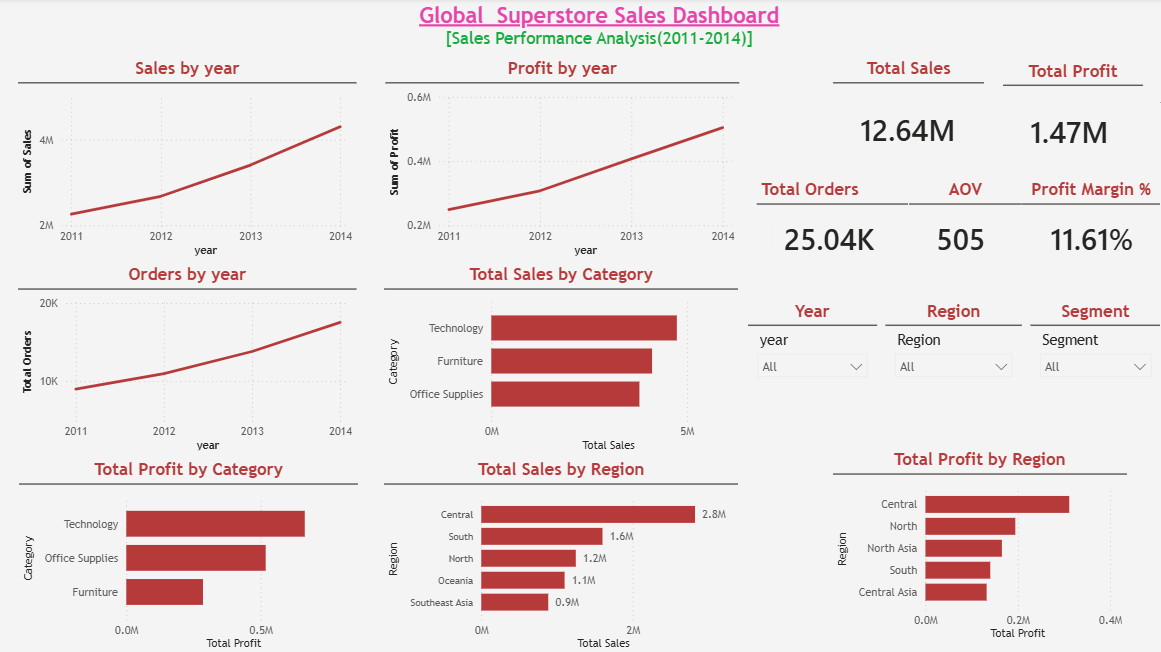

The page's visual inventory and layout, read from the dashboard file:
{"tool":"powerbi","page":{"name":"Executive Overview","canvas":[1280,720],"ordinal":0},"visuals":[{"type":"cardVisual","title":"Total Profit","fields":{"Data":["Global_Superstore2.Total Profit"]},"box":[1107.8,68.6,153.6,123.4],"z":0},{"type":"cardVisual","title":"Total Orders","fields":{"Data":["Global_Superstore2.Total Orders"]},"box":[837.7,198.8,165.9,97.3],"z":1000},{"type":"cardVisual","title":"AOV","fields":{"Data":["Global_Superstore2.AOV"]},"box":[1005,198.8,123.4,97.3],"z":2000},{"type":"cardVisual","title":"Total Sales","fields":{"Data":["Sum(Global_Superstore2.Sales)"]},"box":[921.3,65.8,165.9,124.8],"z":3000},{"type":"lineChart","title":"Sales by year","fields":{"Y":["Sum(Global_Superstore2.Sales)"],"Category":["Global_Superstore2.year"]},"box":[27.4,65.8,371.6,222.1],"z":4000},{"type":"lineChart","title":"Profit by year","fields":{"Category":["Global_Superstore2.year"],"Y":["Sum(Global_Superstore2.Profit)"]},"box":[430.5,65.8,388,222.1],"z":5000},{"type":"lineChart","title":"Orders by year","fields":{"Category":["Global_Superstore2.year"],"Y":["CountNonNull(Global_Superstore2.Order ID)"]},"box":[27.4,292,371.6,209.8],"z":6000},{"type":"cardVisual","title":"Profit Margin %","fields":{"Data":["Global_Superstore2.Profit Margin %"]},"box":[1128.4,198.8,152.2,97.3],"z":7000},{"type":"clusteredBarChart","fields":{"Y":["Global_Superstore2.Total Sales"],"Category":["Global_Superstore2.Category"]},"box":[429.1,292,388,209.8],"z":8000},{"type":"clusteredBarChart","fields":{"Y":["Global_Superstore2.Total Profit"],"Category":["Global_Superstore2.Category"]},"box":[28.8,505.9,371.6,213.9],"z":9000},{"type":"clusteredBarChart","fields":{"Y":["Global_Superstore2.Total Sales"],"Category":["Global_Superstore2.Region"]},"box":[429.1,505.9,388,213.9],"z":10000},{"type":"barChart","fields":{"Y":["Global_Superstore2.Total Profit"],"Category":["Global_Superstore2.Region"]},"box":[921.3,494.9,322.2,213.9],"z":11000},{"type":"slicer","title":"Year","fields":{"Values":["Global_Superstore2.year"]},"box":[828.1,331.8,141.2,104.2],"z":12000},{"type":"slicer","title":"Region","fields":{"Values":["Global_Superstore2.Region"]},"box":[978.9,331.8,149.4,104.2],"z":13000},{"type":"textbox","box":[294.8,0,740.4,65.8],"z":14000},{"type":"slicer","title":"Segment","fields":{"Values":["Global_Superstore2.Segment"]},"box":[1138,331.8,142.6,98.7],"z":15000}]}

Visuals, with their boxes in screenshot pixels (x1, y1, x2, y2), scaled from the page's 1280x720 canvas onto the 1161x652 screenshot:
"Total Profit" cardVisual: rect(1005, 62, 1144, 174)
"Total Orders" cardVisual: rect(760, 180, 910, 268)
"AOV" cardVisual: rect(912, 180, 1023, 268)
"Total Sales" cardVisual: rect(836, 60, 986, 173)
"Sales by year" lineChart: rect(25, 60, 362, 261)
"Profit by year" lineChart: rect(390, 60, 742, 261)
"Orders by year" lineChart: rect(25, 264, 362, 454)
"Profit Margin %" cardVisual: rect(1023, 180, 1160, 268)
clusteredBarChart - Global_Superstore2.Total Sales x Global_Superstore2.Category: rect(389, 264, 741, 454)
clusteredBarChart - Global_Superstore2.Total Profit x Global_Superstore2.Category: rect(26, 458, 363, 651)
clusteredBarChart - Global_Superstore2.Total Sales x Global_Superstore2.Region: rect(389, 458, 741, 651)
barChart - Global_Superstore2.Total Profit x Global_Superstore2.Region: rect(836, 448, 1128, 642)
"Year" slicer: rect(751, 300, 879, 395)
"Region" slicer: rect(888, 300, 1023, 395)
textbox: rect(267, 0, 939, 60)
"Segment" slicer: rect(1032, 300, 1160, 390)
